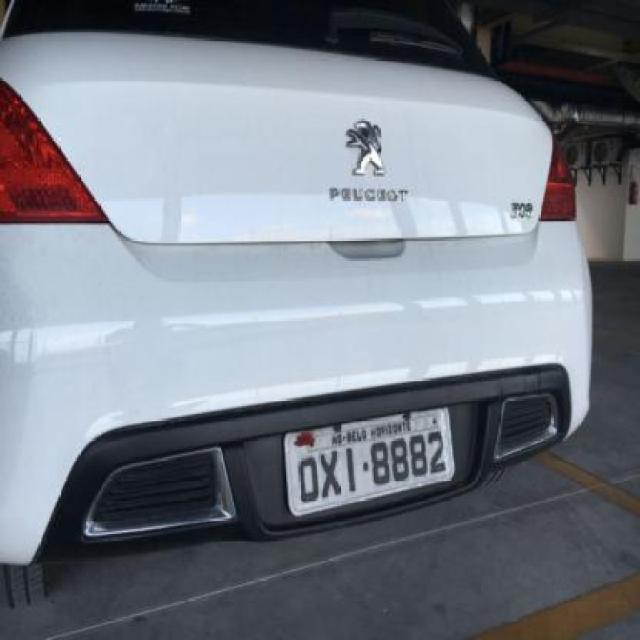old_plate: (280, 401, 461, 524)
